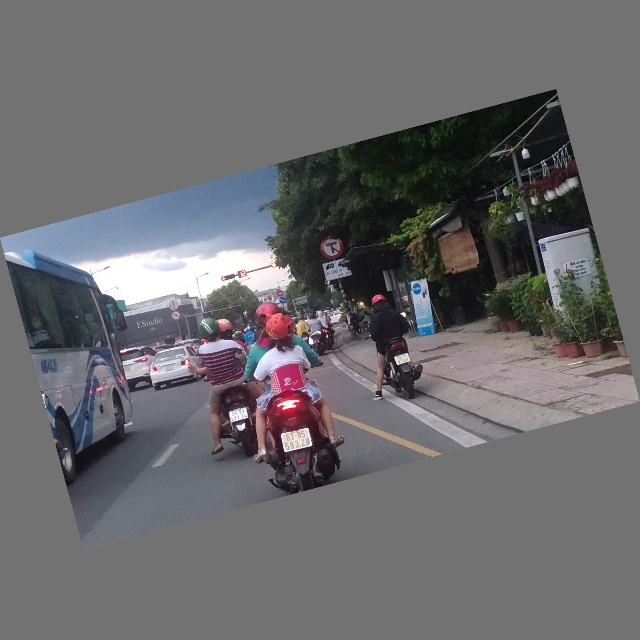P.102: (276, 290, 285, 299)
P.124a*: (170, 310, 182, 322)
P.137: (316, 233, 347, 263)
R.302a: (278, 297, 287, 305)
